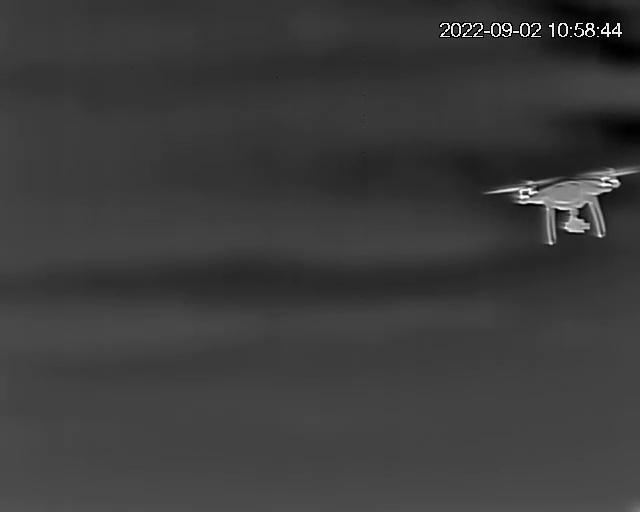DJI-Phantom: (486, 166, 640, 244)
